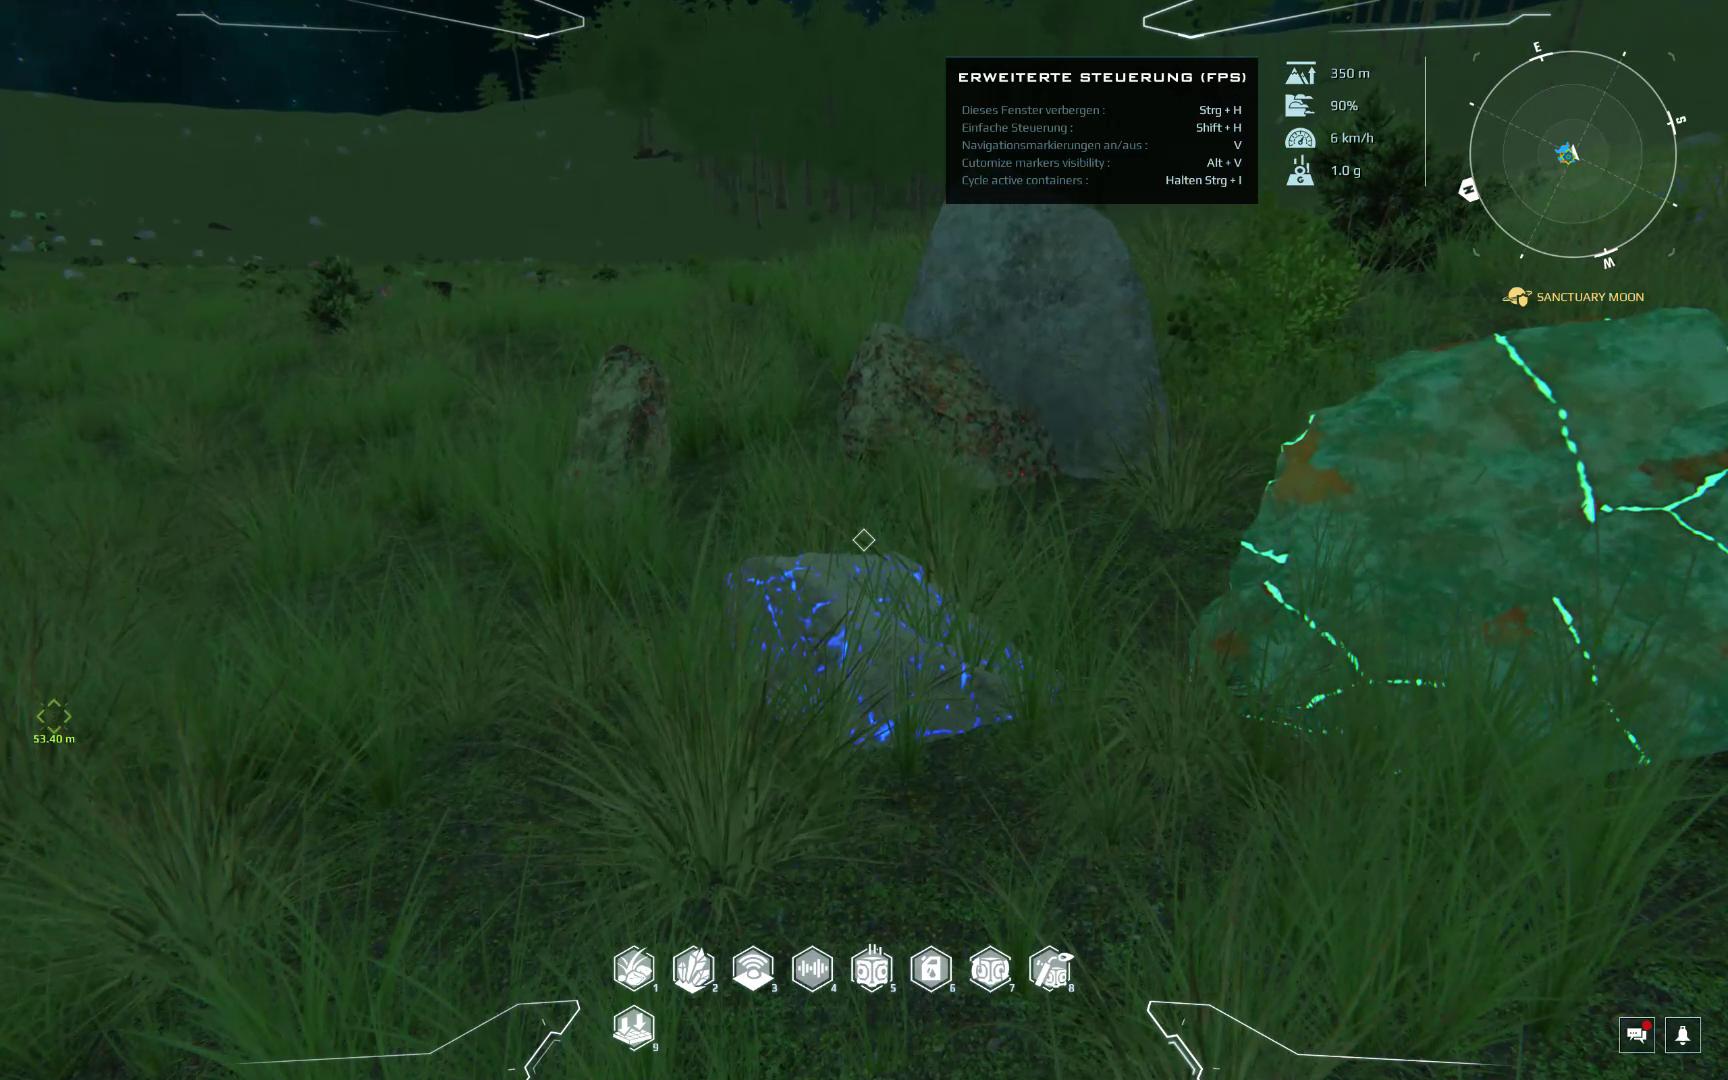Ore: (1193, 302, 1728, 771), (718, 547, 1076, 750), (836, 319, 1061, 503), (570, 343, 673, 504)
